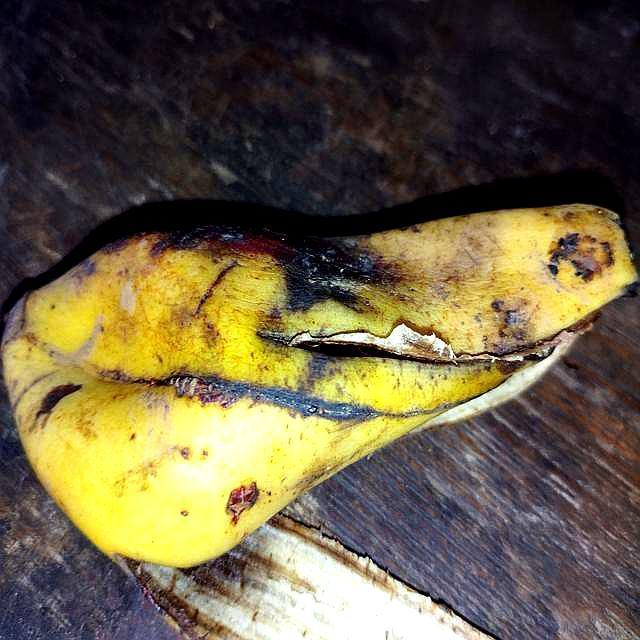Biodegradable: (1, 203, 640, 567)
